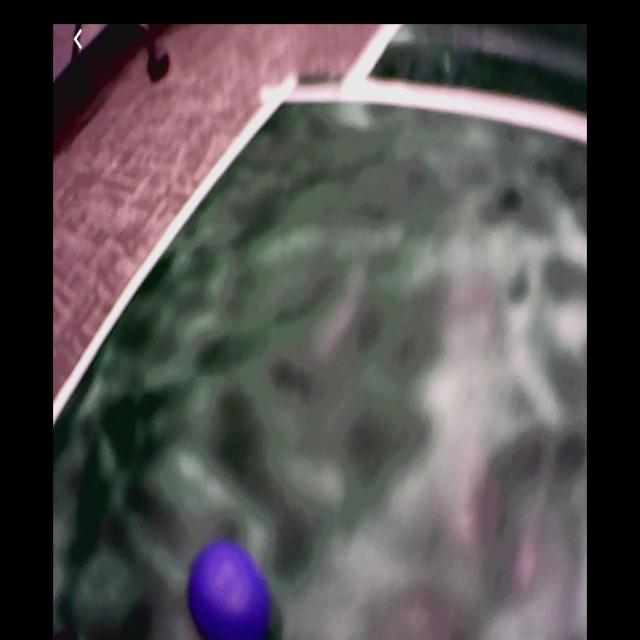ball: (189, 543, 270, 639)
